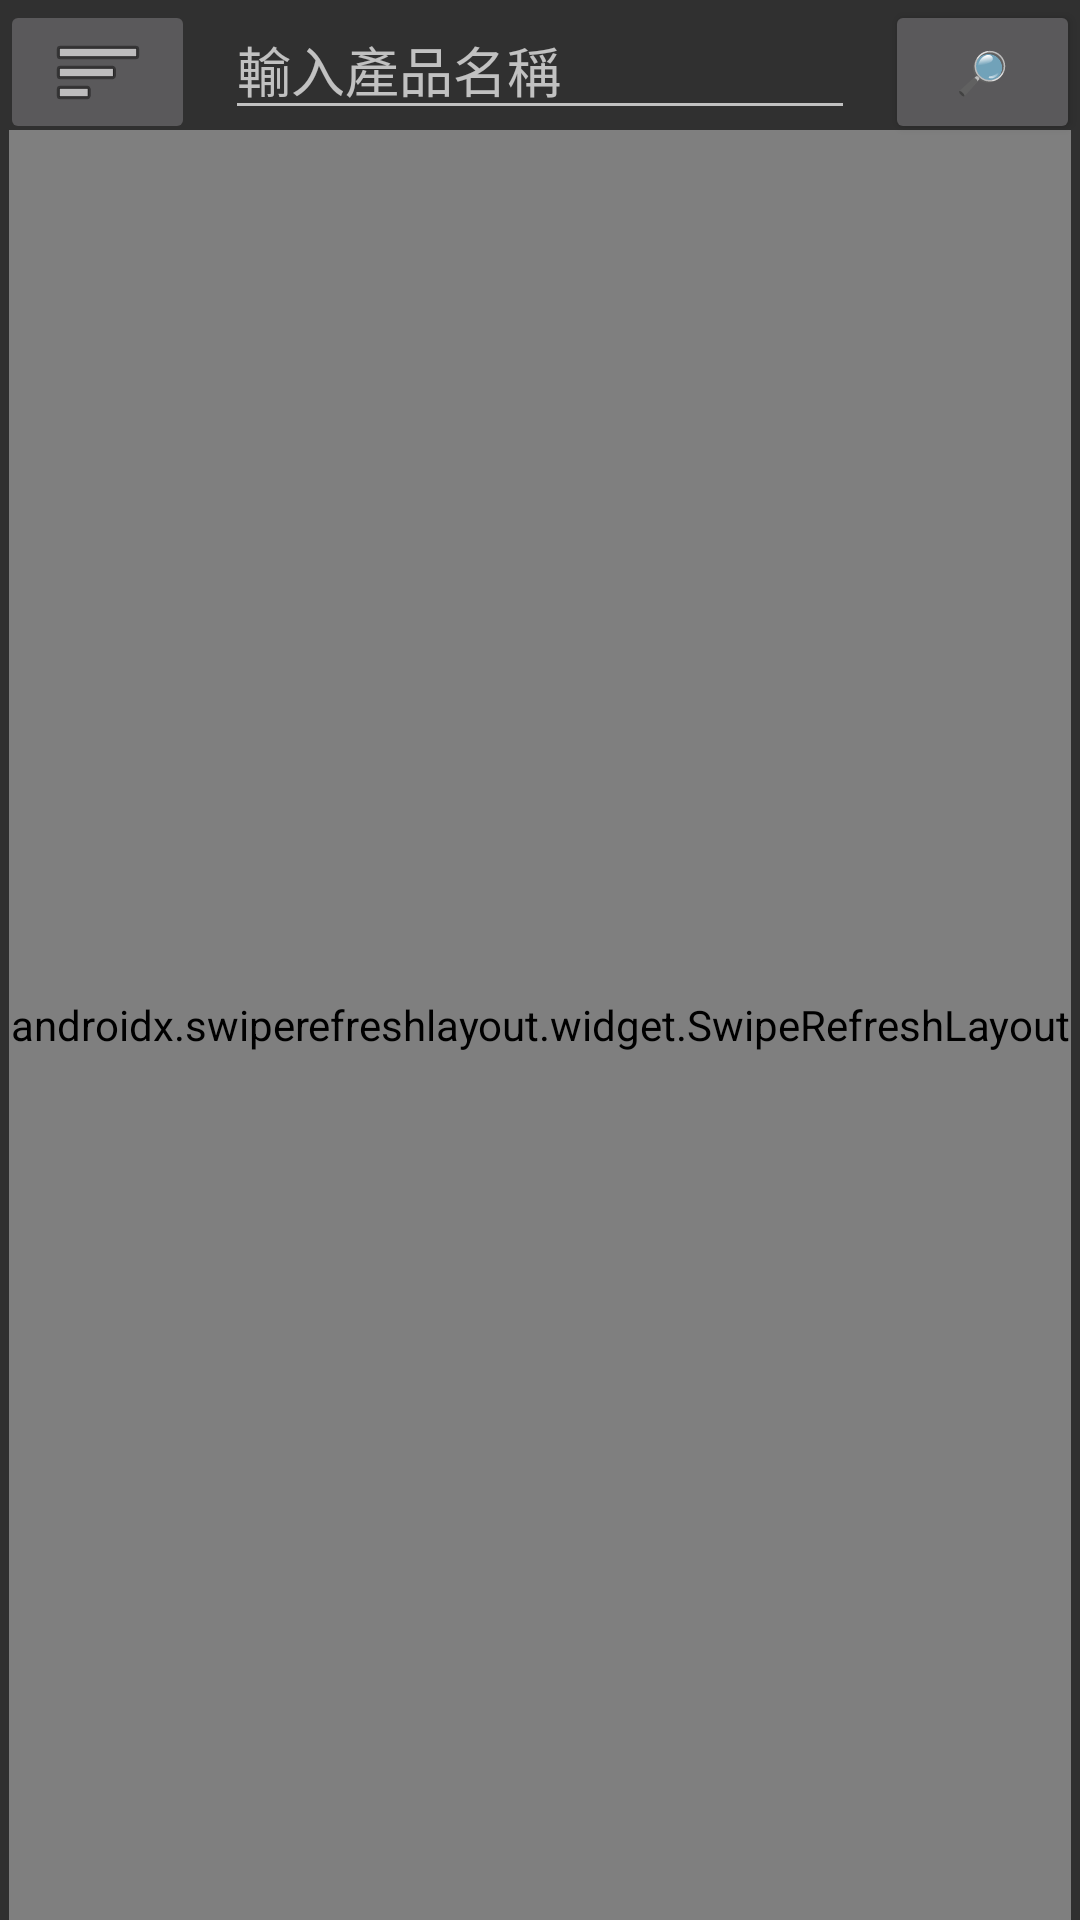

Point at icon controls on the screen. Image size 1080px×1920px, points as [x,y].
sort by size: [97,72]
